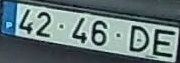2: (35, 10, 52, 38)
4: (70, 16, 88, 44), (17, 8, 34, 35)
6: (90, 19, 108, 47)
D: (127, 24, 150, 53)
E: (151, 27, 176, 58)
